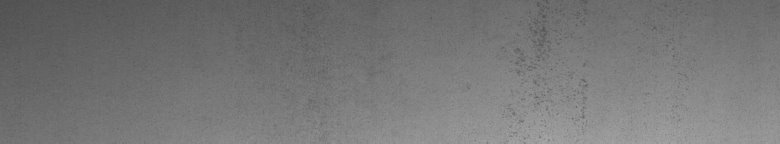ib: (505, 13, 588, 128)
